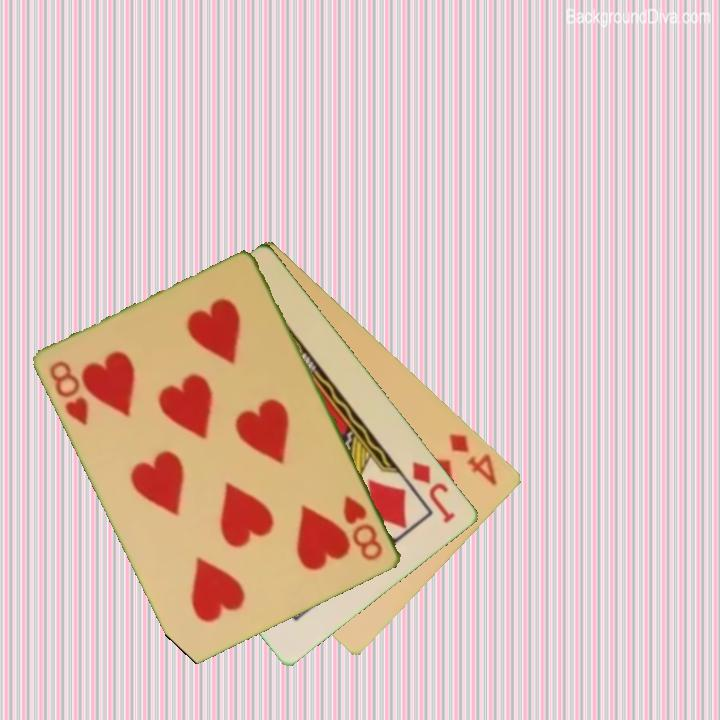4d: (446, 430, 501, 489)
8h: (46, 357, 92, 429), (340, 493, 386, 564)
Jd: (409, 457, 459, 526)
